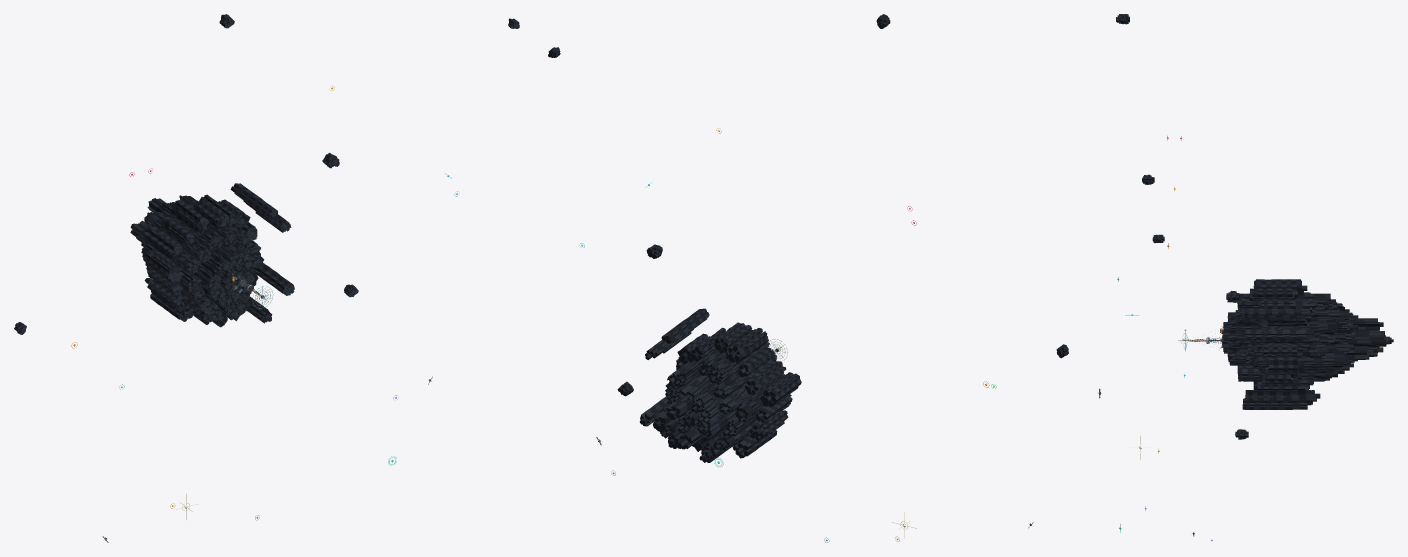
File: gor9_tower.obj
The picture shows the model from 3 angles, left to right: view 1: azimuth 30°, elevation 25°; view 2: azimuth 150°, elevation 25°; view 3: azimuth 270°, elevation 25°; orthographic projection. The views are drawn at different scales.
Bounding box in the file's own units: 1044 × 1029 × 579.
